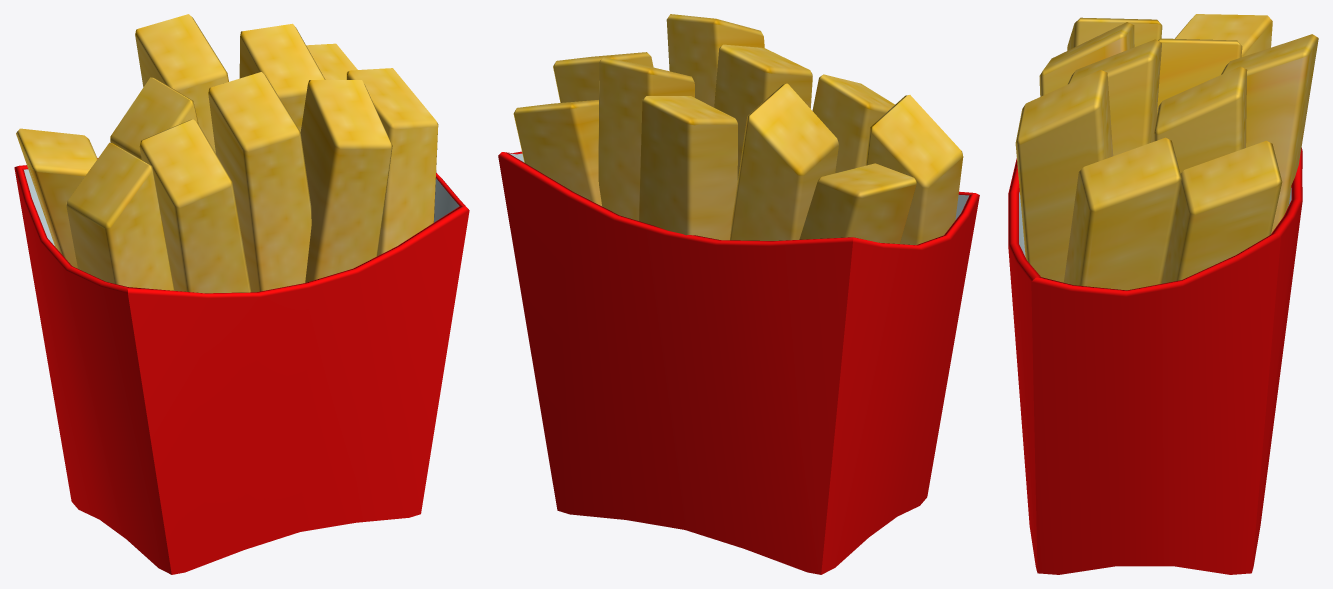
Rendered from French_fries.fbx.
3 renders of one model, left to right at view 1: azimuth 30°, elevation 25°; view 2: azimuth 150°, elevation 25°; view 3: azimuth 270°, elevation 25°, orthographic. The views are drawn at different scales.
Visible parts, largest first — view 1: French_fries; view 2: French_fries; view 3: French_fries.
Boxes of the visible parts, left/top/right/bottom form: French_fries: left=14, top=14, right=469, bottom=574; French_fries: left=498, top=14, right=979, bottom=574; French_fries: left=1008, top=14, right=1318, bottom=574.
Size of the model in its own units: 11.7 by 12.91 by 7.8.
